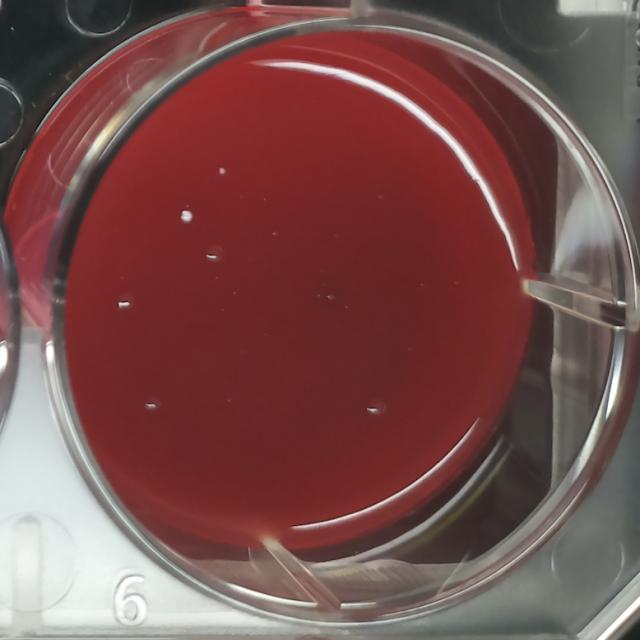Staphylococcus: (178, 206, 195, 225)
